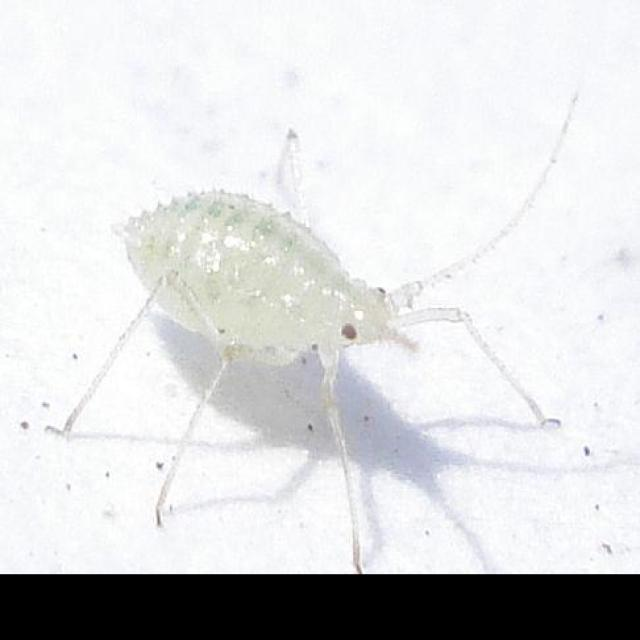Aphids: (90, 147, 554, 550)
